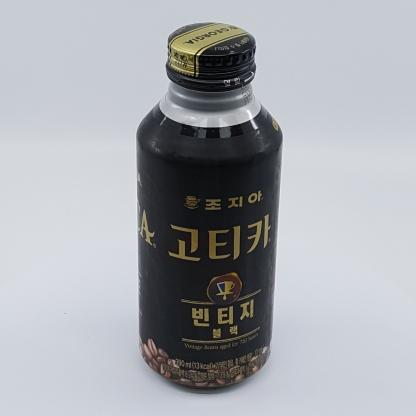-----------390ML: (136, 22, 283, 388)
